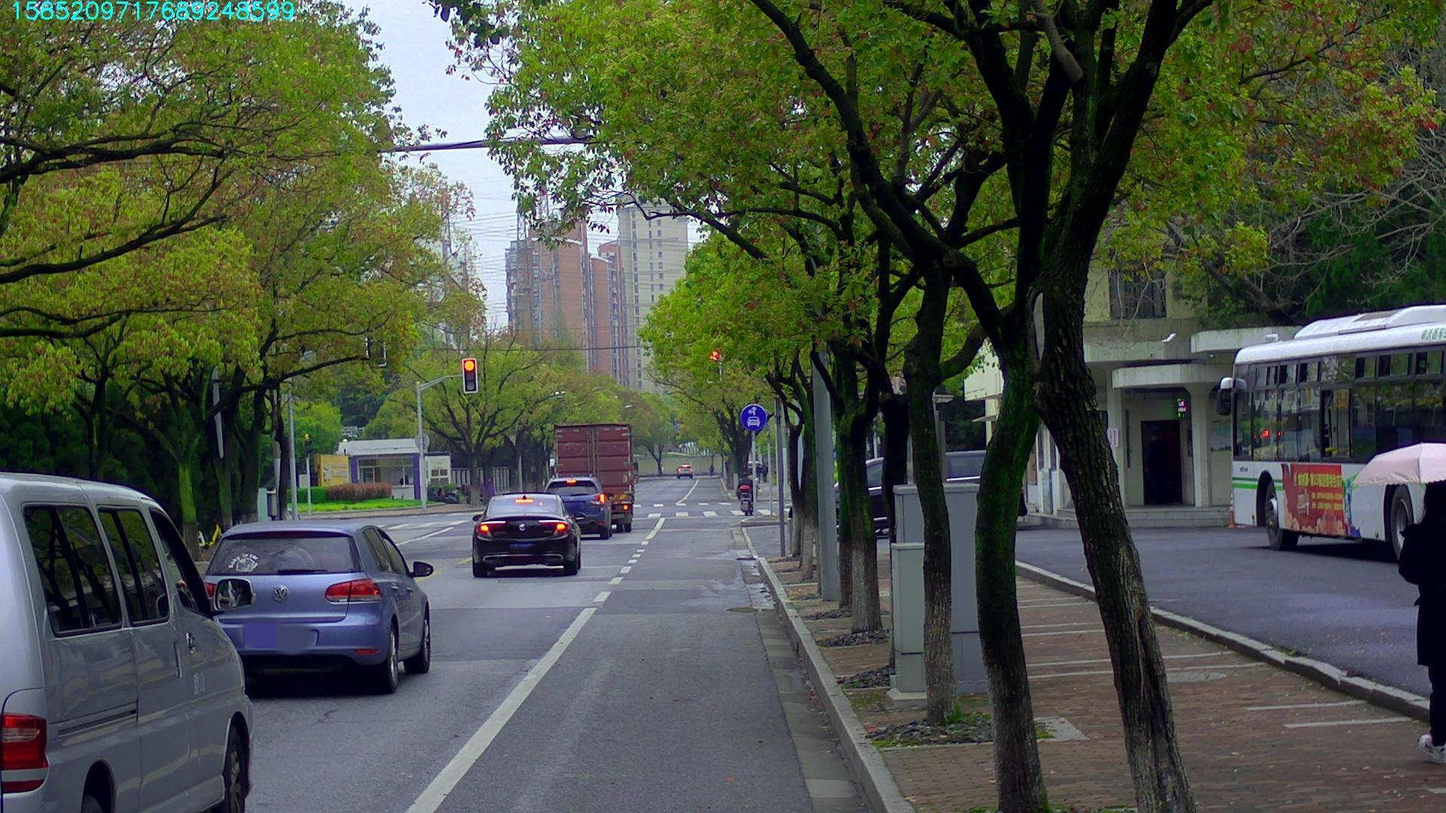red: (707, 346, 721, 382), (463, 358, 476, 391)
